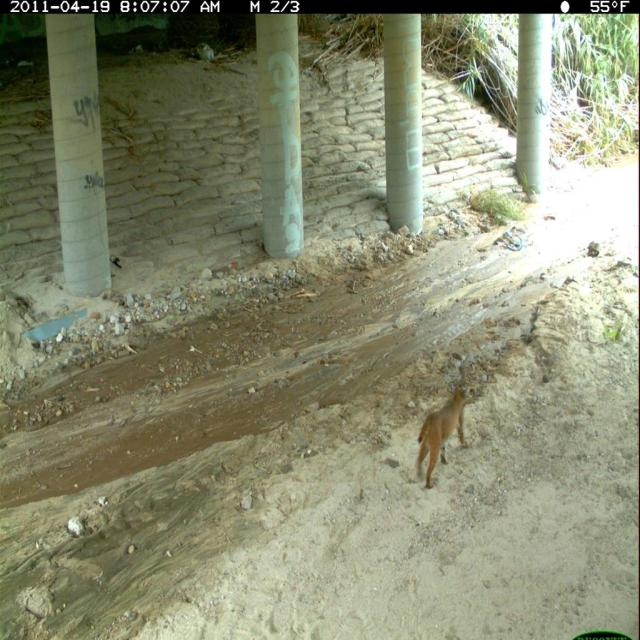bobcat: (415, 381, 475, 492)
